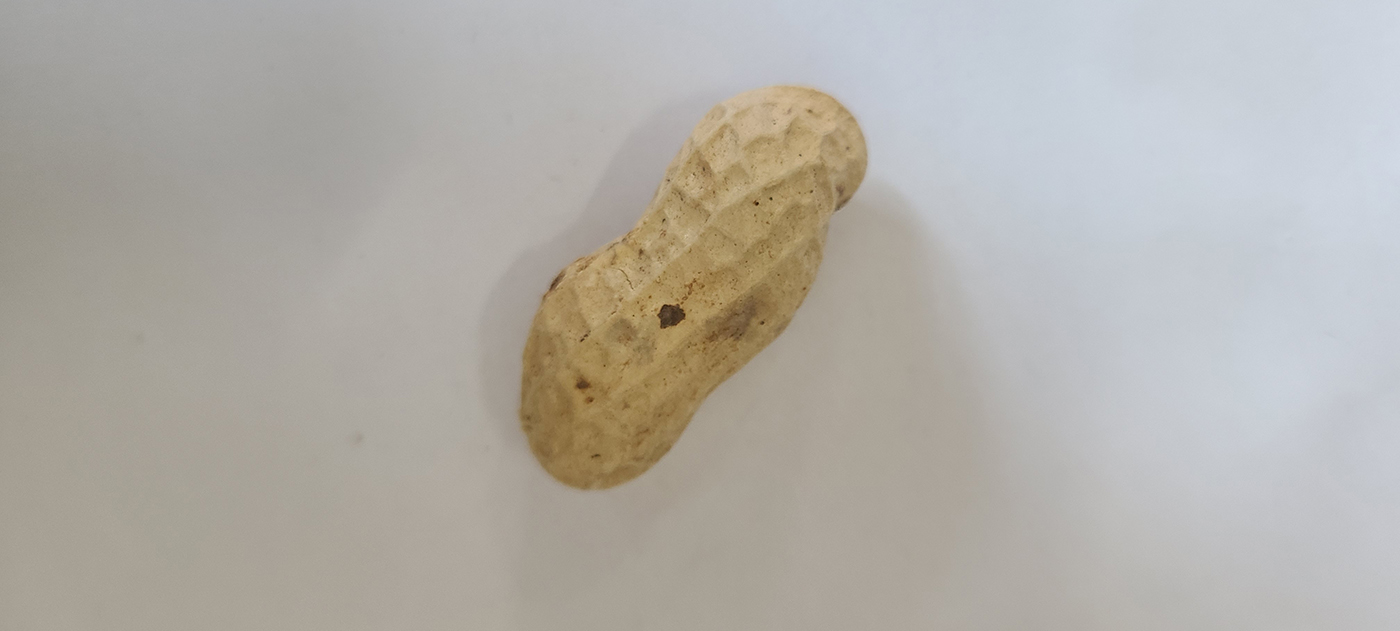h: (518, 83, 869, 492)
